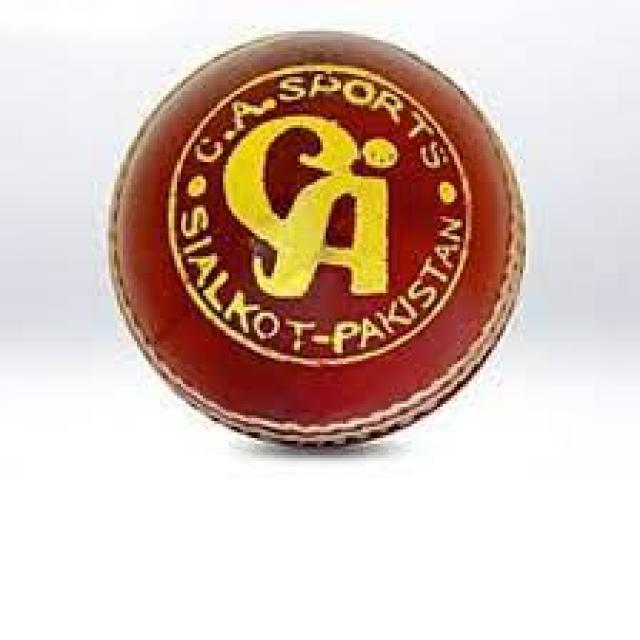ball: (106, 34, 528, 447)
